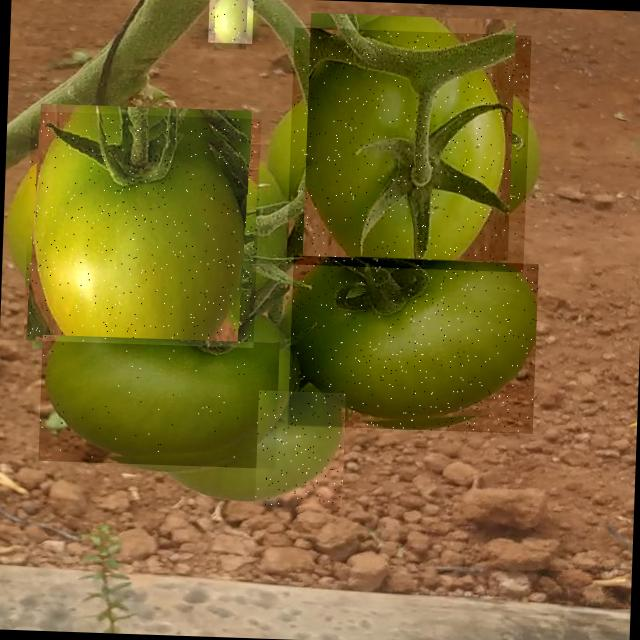Unripe Tomato: (286, 27, 531, 272), (23, 110, 261, 348), (287, 256, 538, 434), (38, 334, 279, 468), (254, 390, 346, 508), (208, 0, 253, 43)
